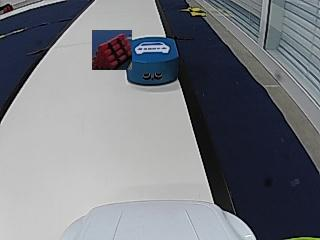safety: (135, 42, 171, 54)
